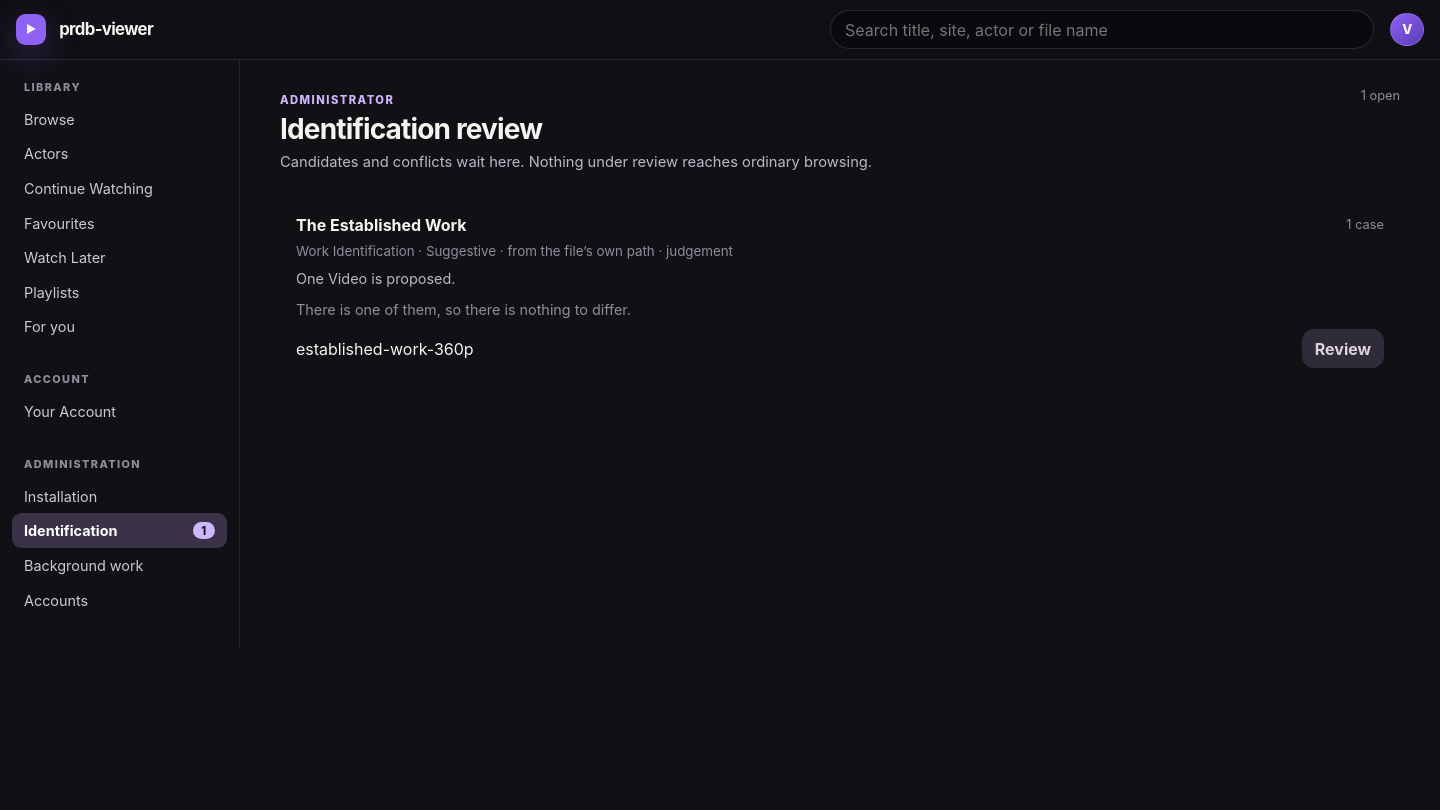
Test case: App › compares a neighbour proposal against the other file of this library
The width and height of the screenshot is (1440, 810).
Click the button "Review" at {"x": 1343, "y": 349}, box [1302,329,1384,368]
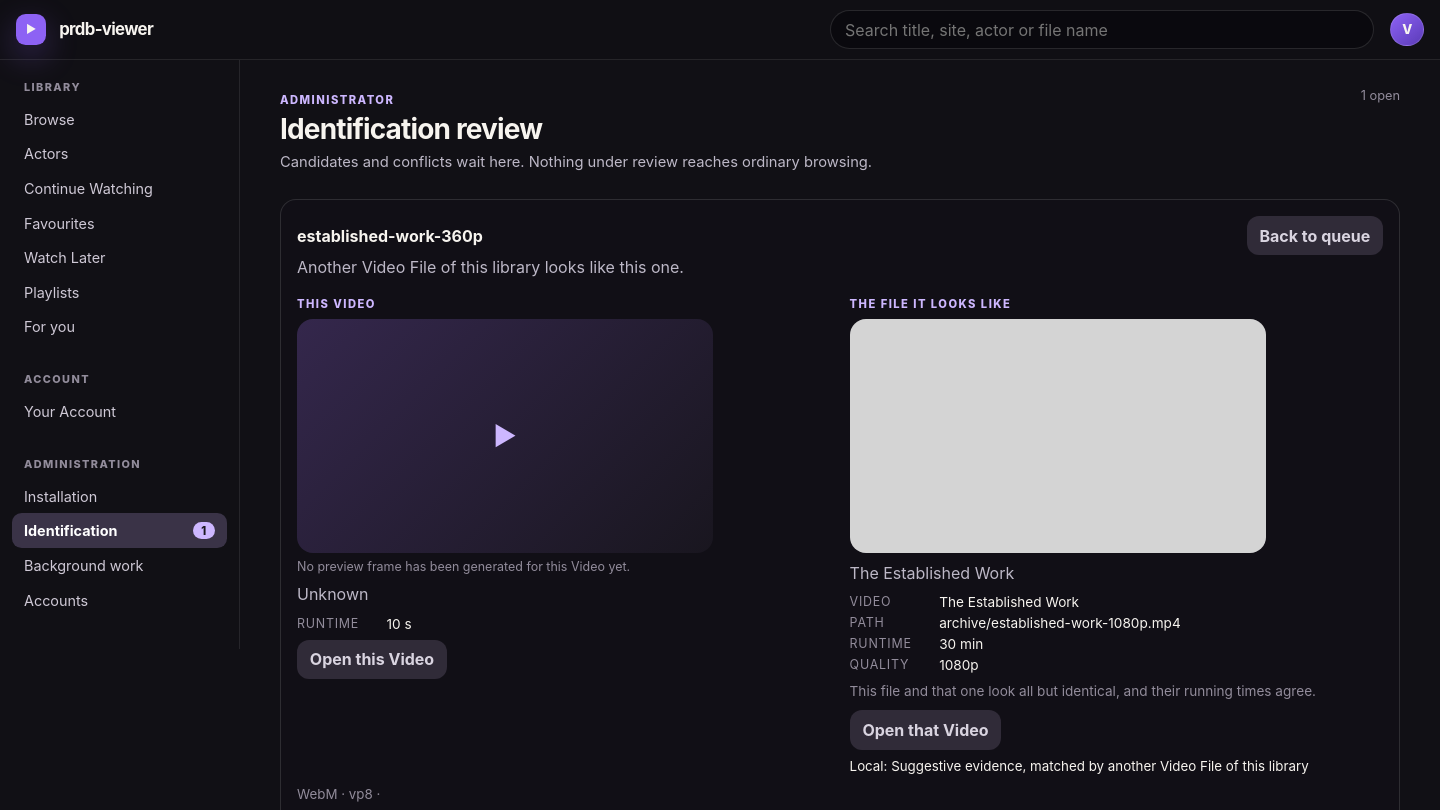
expect the text "The file it looks like" is shown: met, box [850,297,1011,311]
expect the text "archive/established-work-1080p.mp4" is shown: met, box [939,615,1181,631]
expect the text "30 min" is shown: met, box [939,636,983,652]
